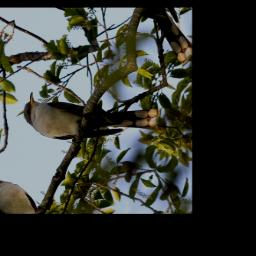Cuckoo: (16, 53, 163, 180)
